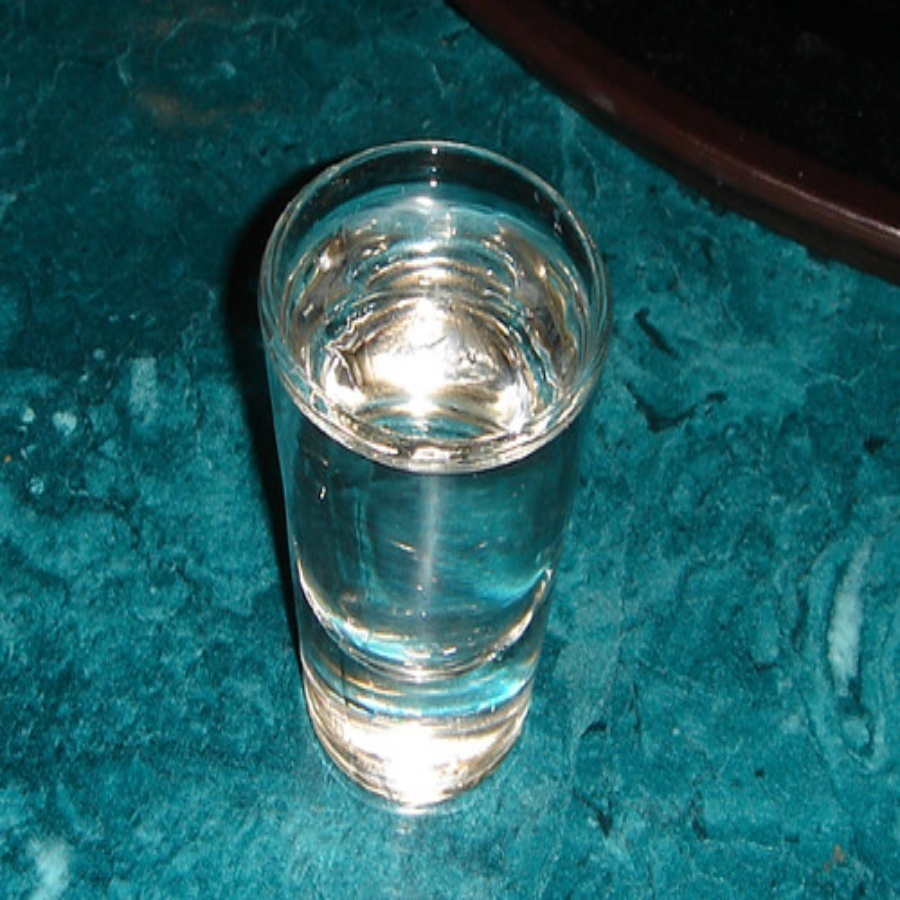whiskey: (259, 140, 593, 788)
